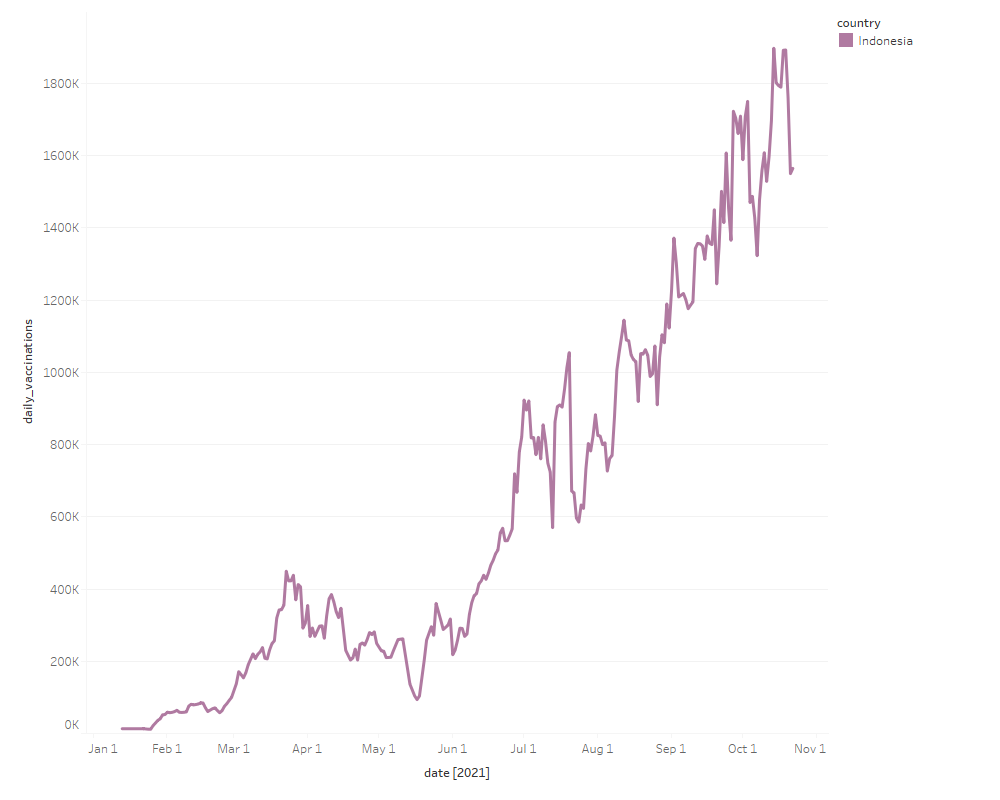

The dashboard page shown, as its layout file describes it:
{"tool":"tableau","page":{"name":"Dashboard 1","canvas":[1000,800],"ordinal":0},"visuals":[{"type":"worksheet","title":"Sheet 7","mark":"Automatic","rows":["country"],"cols":["people_fully_vaccinated"],"box":[8,8,984,784]}]}

Visuals, with their boxes in screenshot pixels (x1, y1, x2, y2), scaled from the page's 1000x800 canvas onto the 1000x800 screenshot:
"Sheet 7" worksheet: [x1=8, y1=8, x2=992, y2=792]
